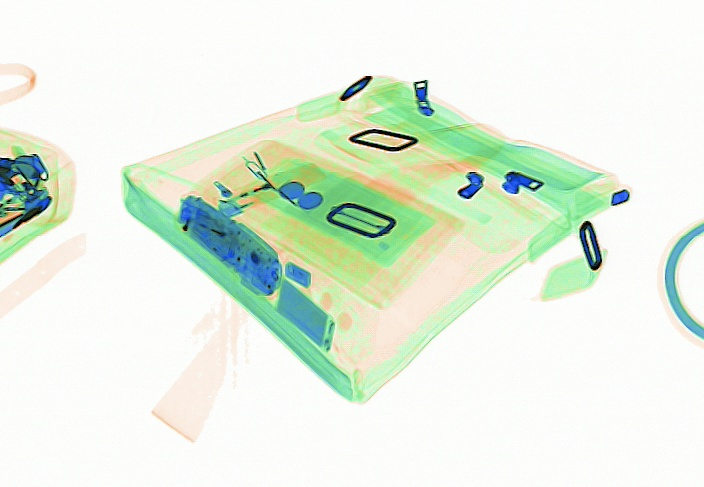lighter: (217, 161, 322, 217), (179, 203, 241, 260)
